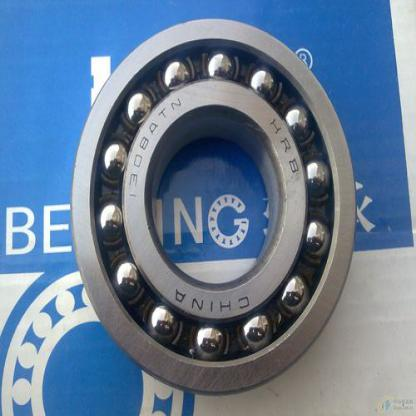FOD: (70, 13, 361, 402)
